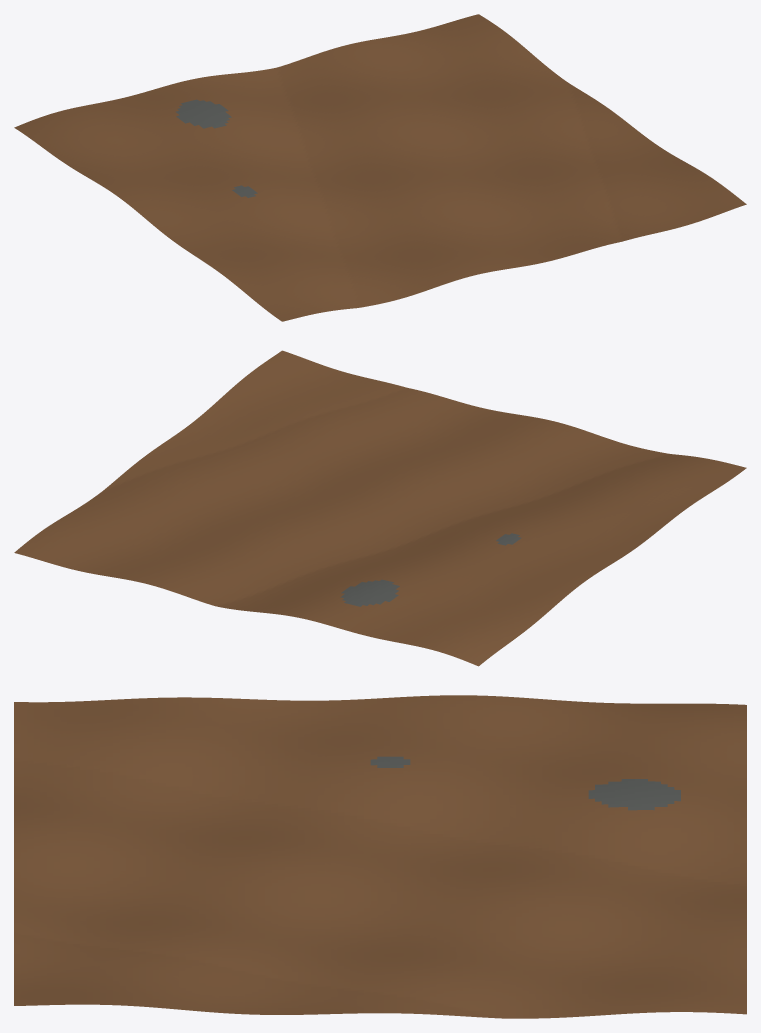
Rendered from coastal_cliffs_112.obj.
3 renders of one model, top to bottom at view 1: azimuth 30°, elevation 25°; view 2: azimuth 150°, elevation 25°; view 3: azimuth 270°, elevation 25°, orthographic. The views are drawn at different scales.
Size of the model in its own units: 222 by 6.08 by 222.
